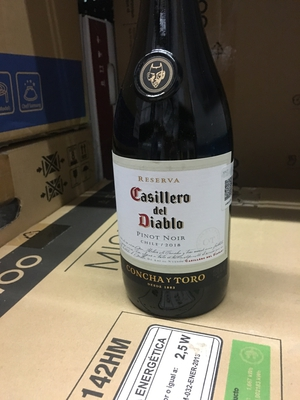casillero del diablo pinot noir: (89, 23, 279, 322)
